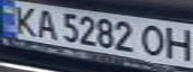2: (112, 18, 139, 53), (75, 14, 96, 47)
5: (57, 10, 81, 44)
8: (93, 16, 118, 50)
A: (30, 7, 60, 39)
H: (160, 25, 193, 62)
K: (9, 2, 42, 36)
O: (139, 22, 169, 58)
